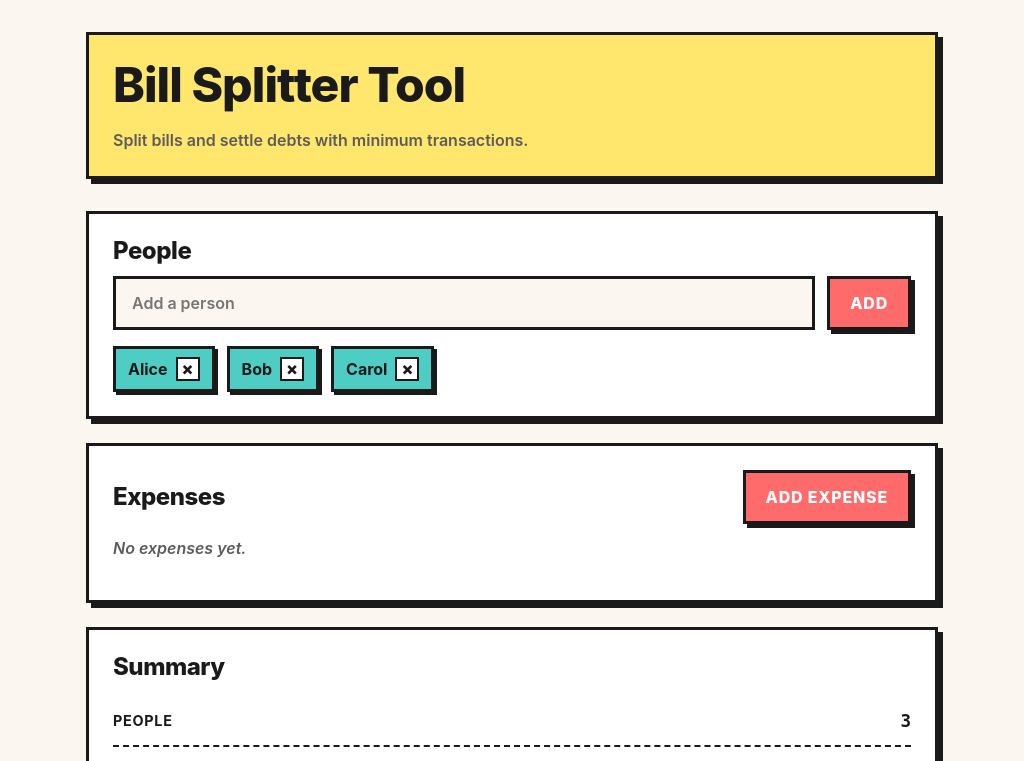
App › shows a per-person breakdown for an expense
Click the button "Add expense" at (827, 497), box [743,470,911,524]
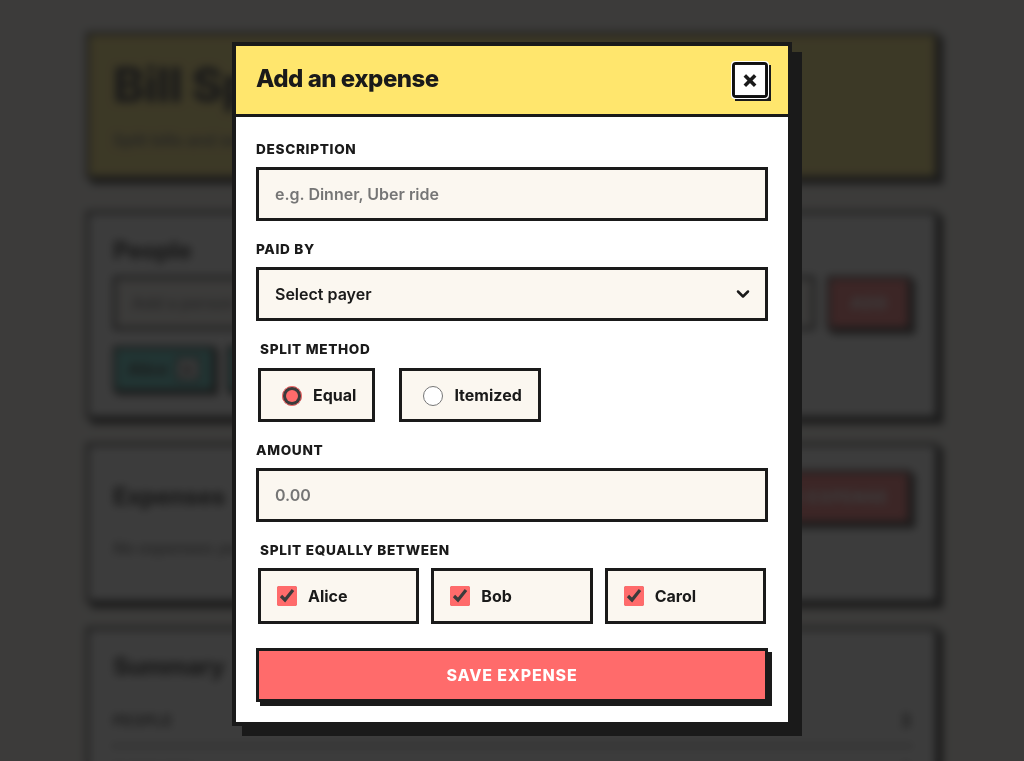
Type "Taxi" into the field with placeholder "e.g. Dinner, Uber ride" at (512, 194), box [256,167,768,221]
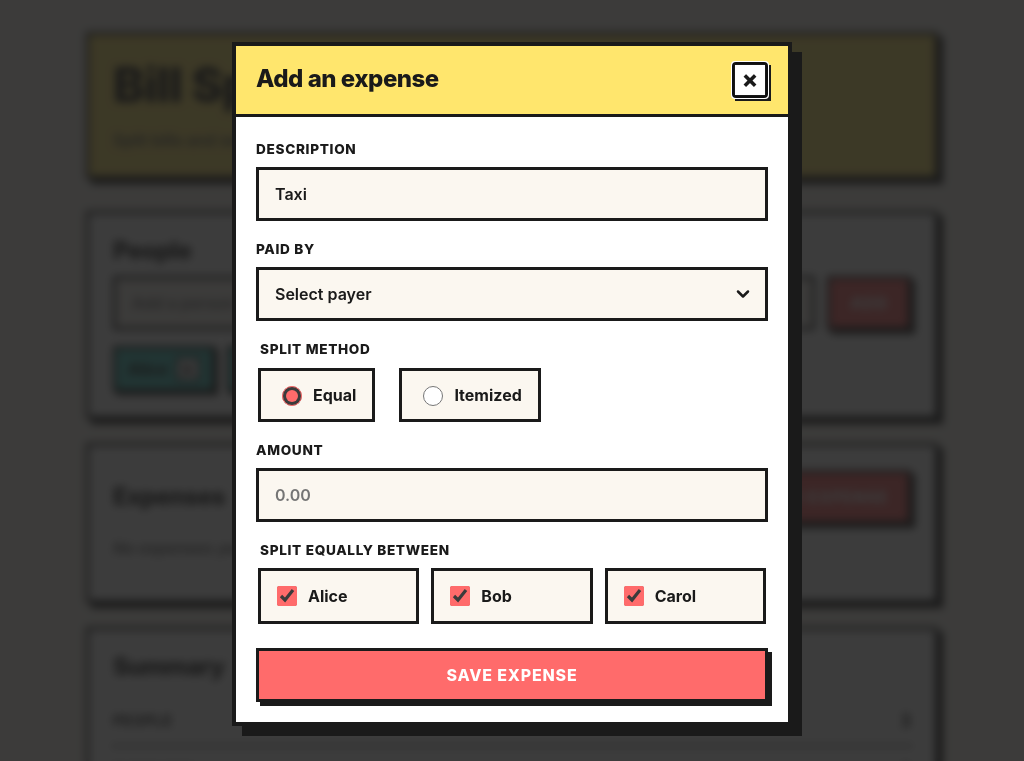
Type "60" into the number field with placeholder "0.00" at (512, 495), box [256,468,768,522]
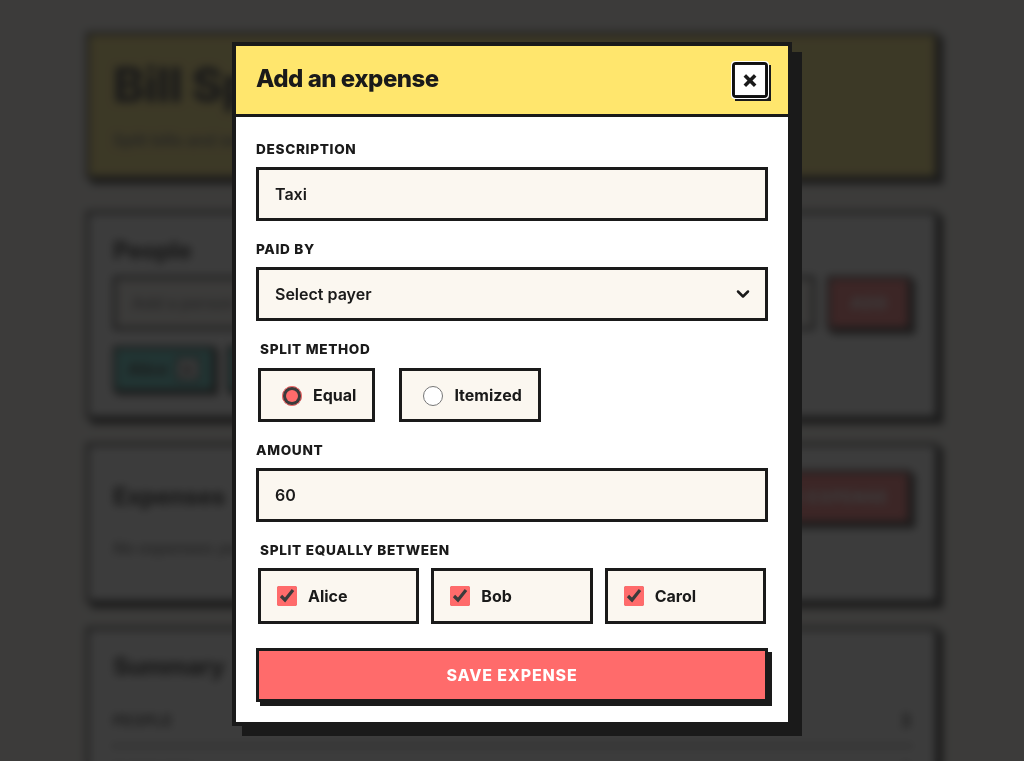
Select "Alice" in the dropdown labelled "Paid by" at (512, 294), box [256,267,768,321]
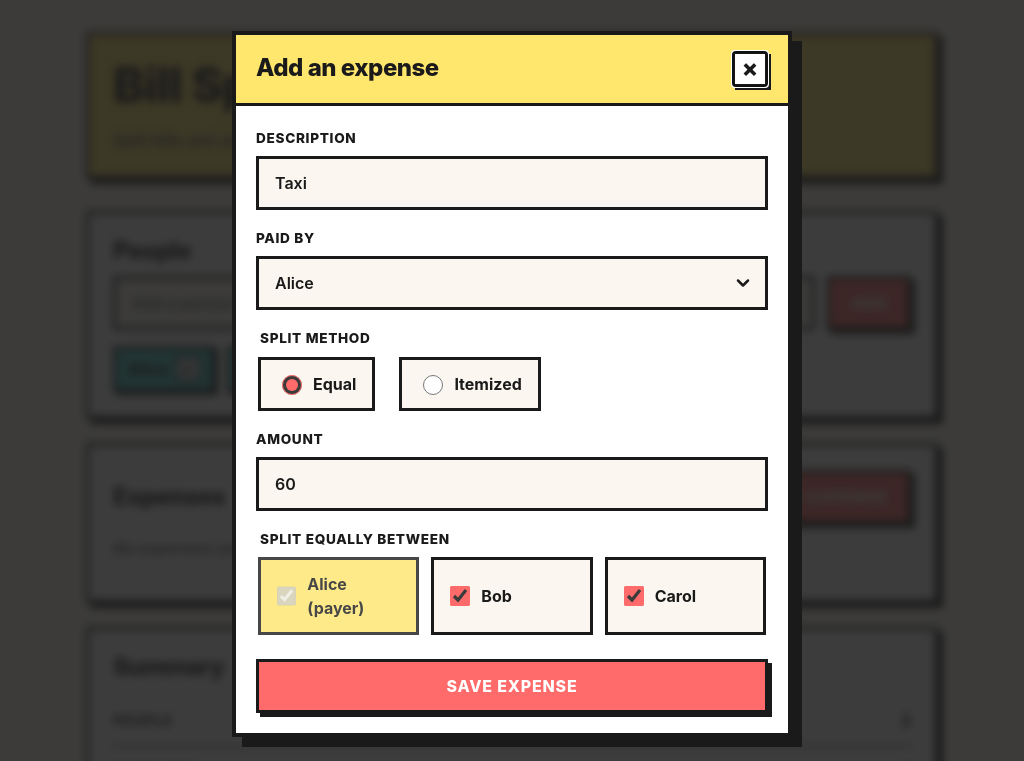
Click the button "Save expense" at (512, 686), box [256,660,768,714]
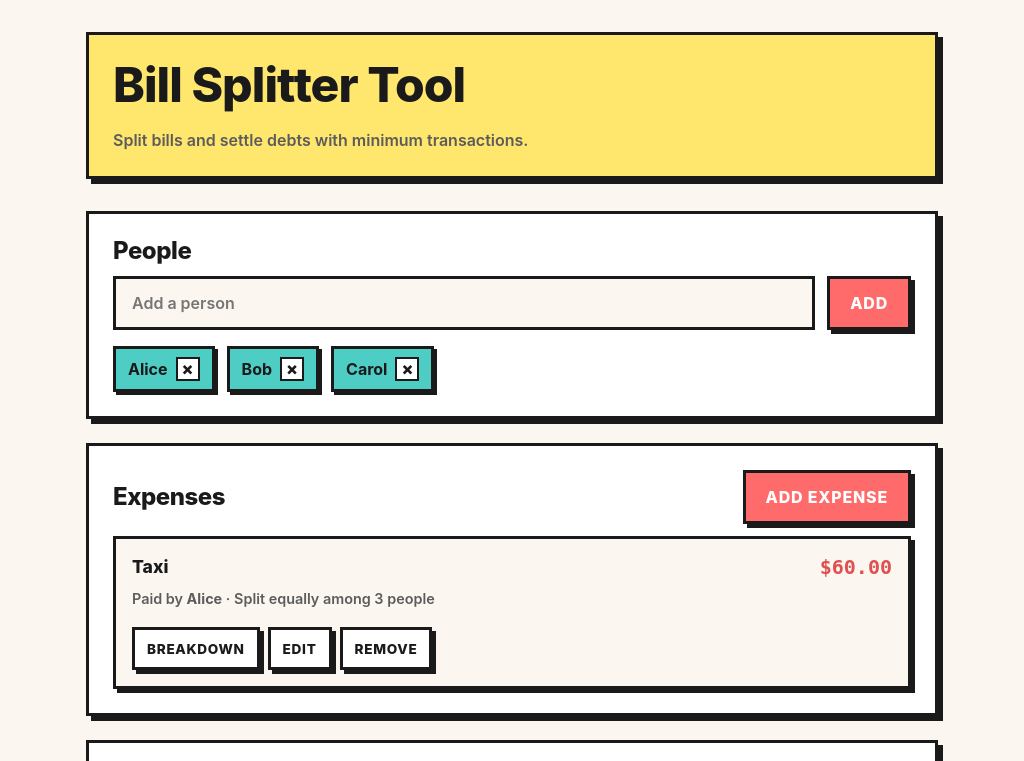
Click the button "Breakdown" at (196, 649), box [132,627,260,670]
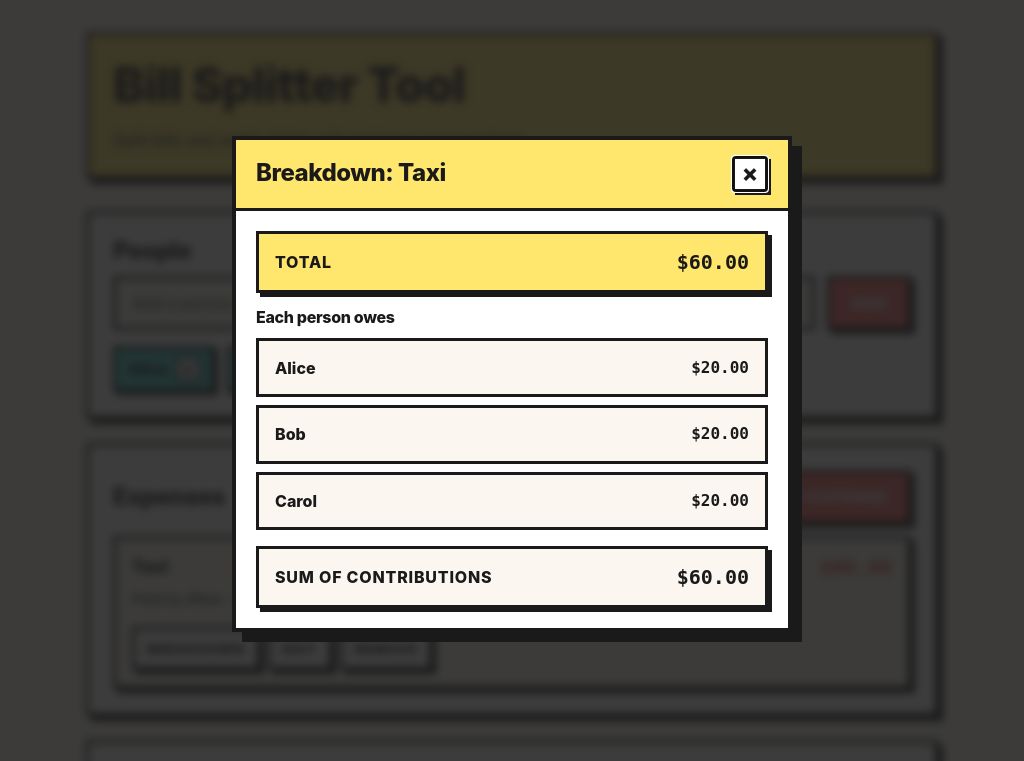
Result: the heading "Breakdown: Taxi" is shown at [256,160,446,187]
Result: the heading "Each person owes" is shown at [256,306,395,326]
Result: the text "$20.00" is shown 5 times
